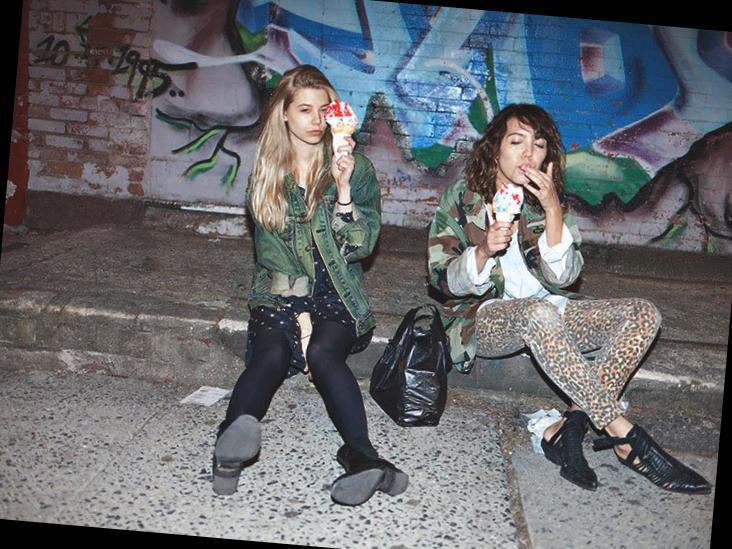Drunk: (497, 124, 545, 180), (294, 88, 336, 142)
